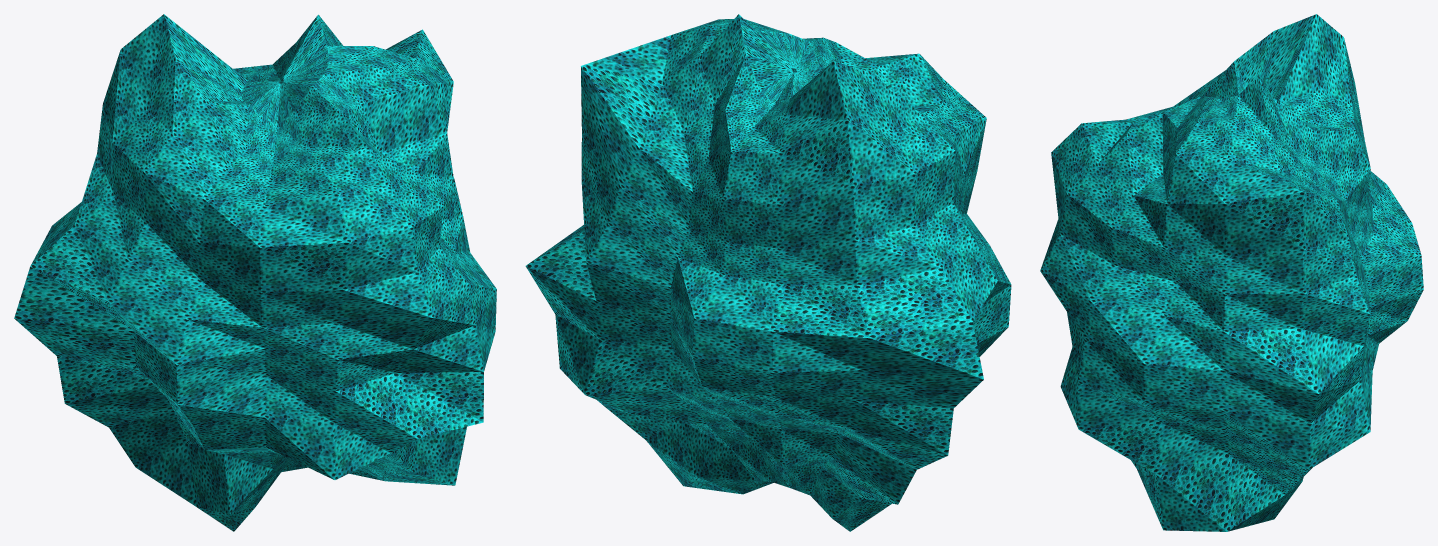
The model's file is coral001b.obj.
The picture shows the model from 3 angles, left to right: view 1: azimuth 30°, elevation 25°; view 2: azimuth 150°, elevation 25°; view 3: azimuth 270°, elevation 25°; orthographic projection. The views are drawn at different scales.
Visible parts, largest first — view 1: Landscape; view 2: Landscape; view 3: Landscape.
Part boxes in pixels (x1,y1,x2,y2): Landscape: (14, 14, 496, 531); Landscape: (525, 14, 1011, 531); Landscape: (1040, 14, 1423, 531).
Bounding box in the file's own units: 6.41 × 6.79 × 5.22.
1 material, 1 textured.
